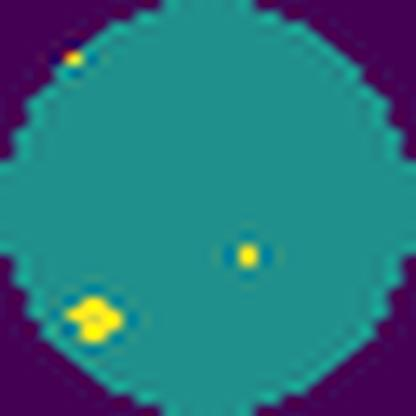Loc: (59, 297, 130, 348)
